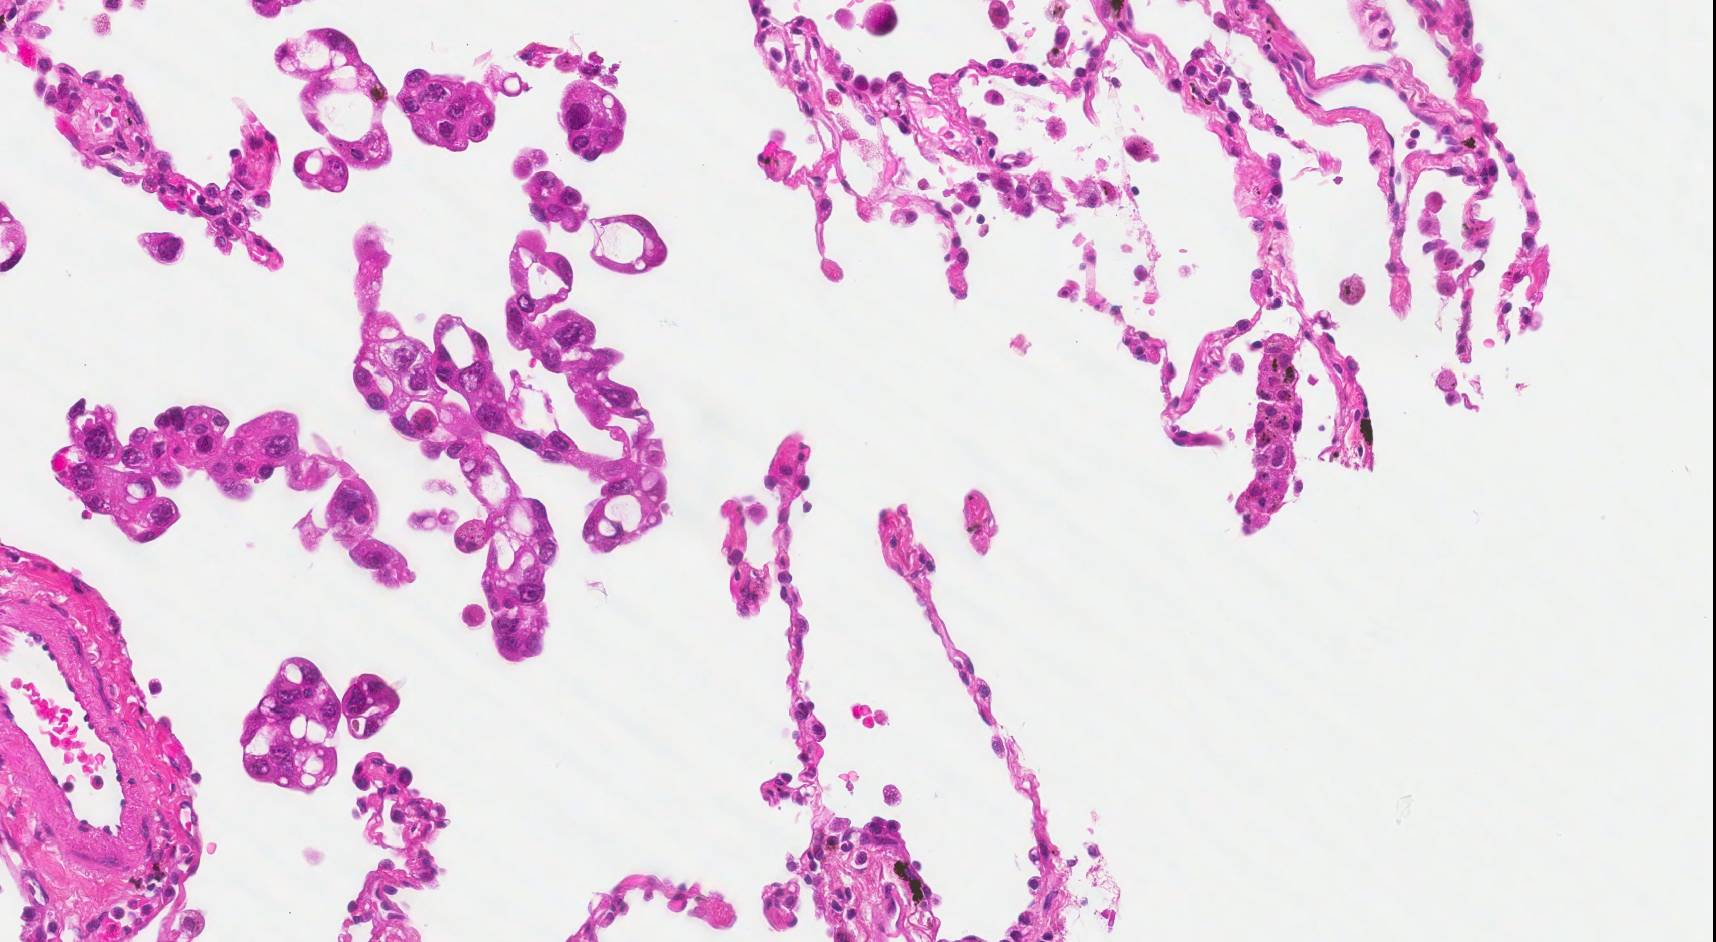stas: (432, 224, 672, 554), (351, 311, 566, 665), (52, 398, 416, 591), (275, 27, 395, 171), (240, 657, 341, 793), (395, 61, 497, 152), (558, 78, 625, 163), (586, 214, 673, 274), (340, 671, 398, 737), (528, 172, 587, 234), (294, 143, 349, 195), (139, 228, 188, 265)
